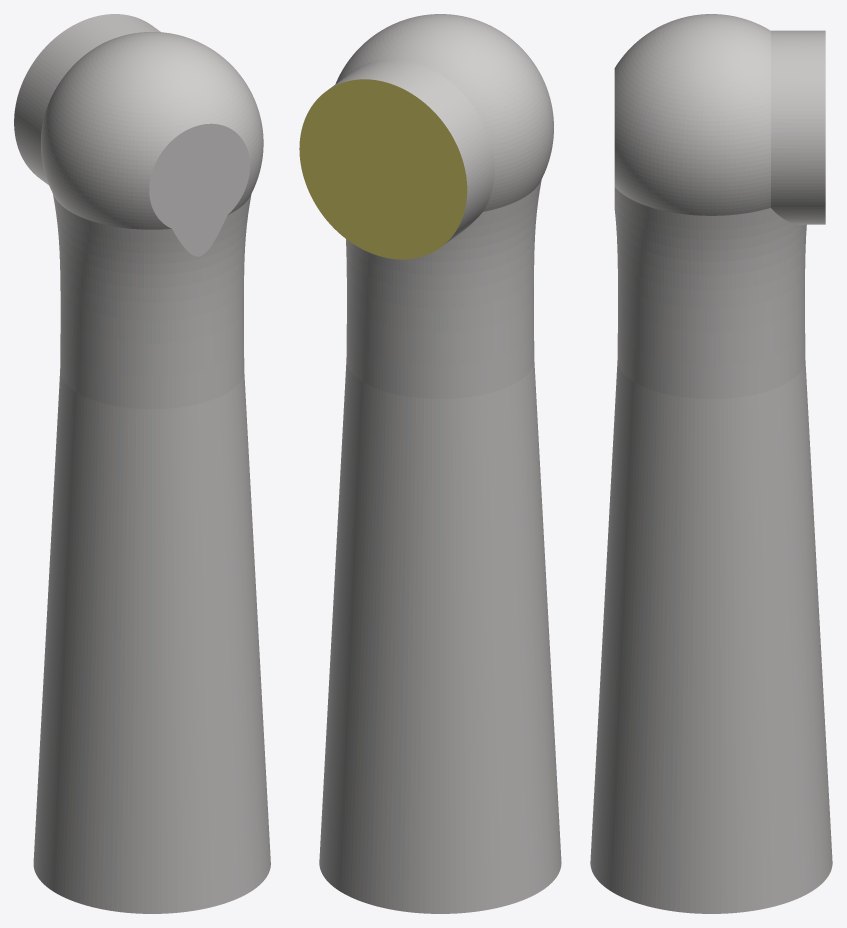
Rendered from arm4.dae.
3 renders of one model, left to right at view 1: azimuth 30°, elevation 25°; view 2: azimuth 150°, elevation 25°; view 3: azimuth 270°, elevation 25°, orthographic. The views are drawn at different scales.
Parts seen in each view (by area): view 1: Arm4; view 2: Arm4; view 3: Arm4.
Boxes of the visible parts, <box> form: Arm4: <box>14,14,270,913</box>; Arm4: <box>299,14,561,913</box>; Arm4: <box>590,14,832,913</box>.
Size of the model in its own units: 0.1 by 0.1 by 0.3818.
Materials: 2 (2 with a texture image).
